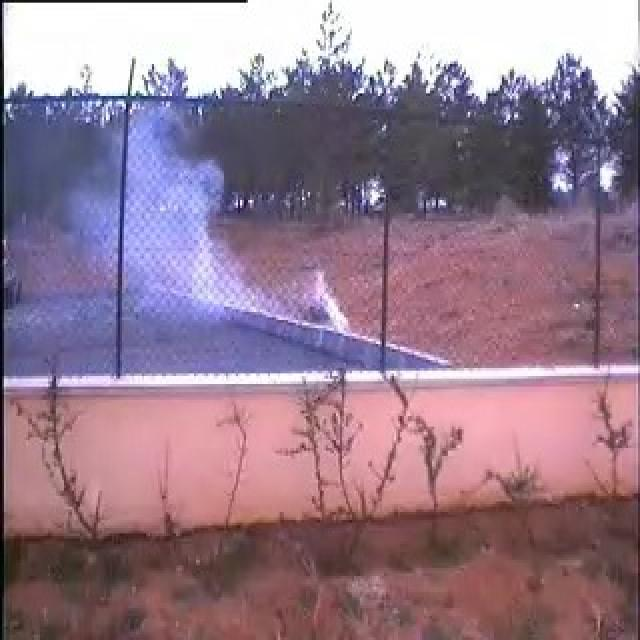smoke: (124, 123, 344, 357)
